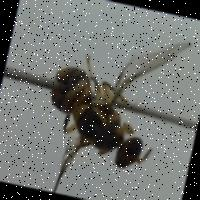Oriental-fruit-fly: (21, 11, 200, 200)
